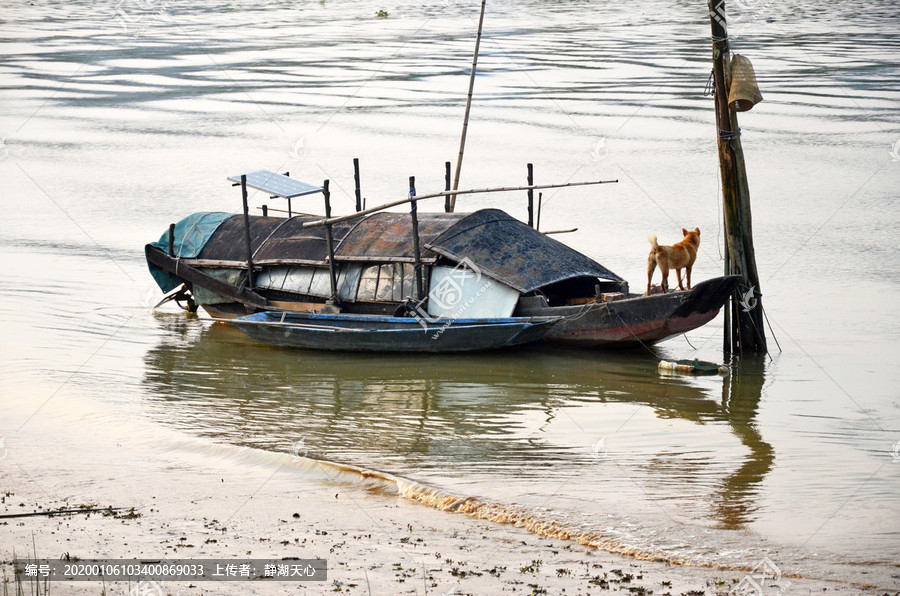otherboat: (144, 151, 743, 338)
